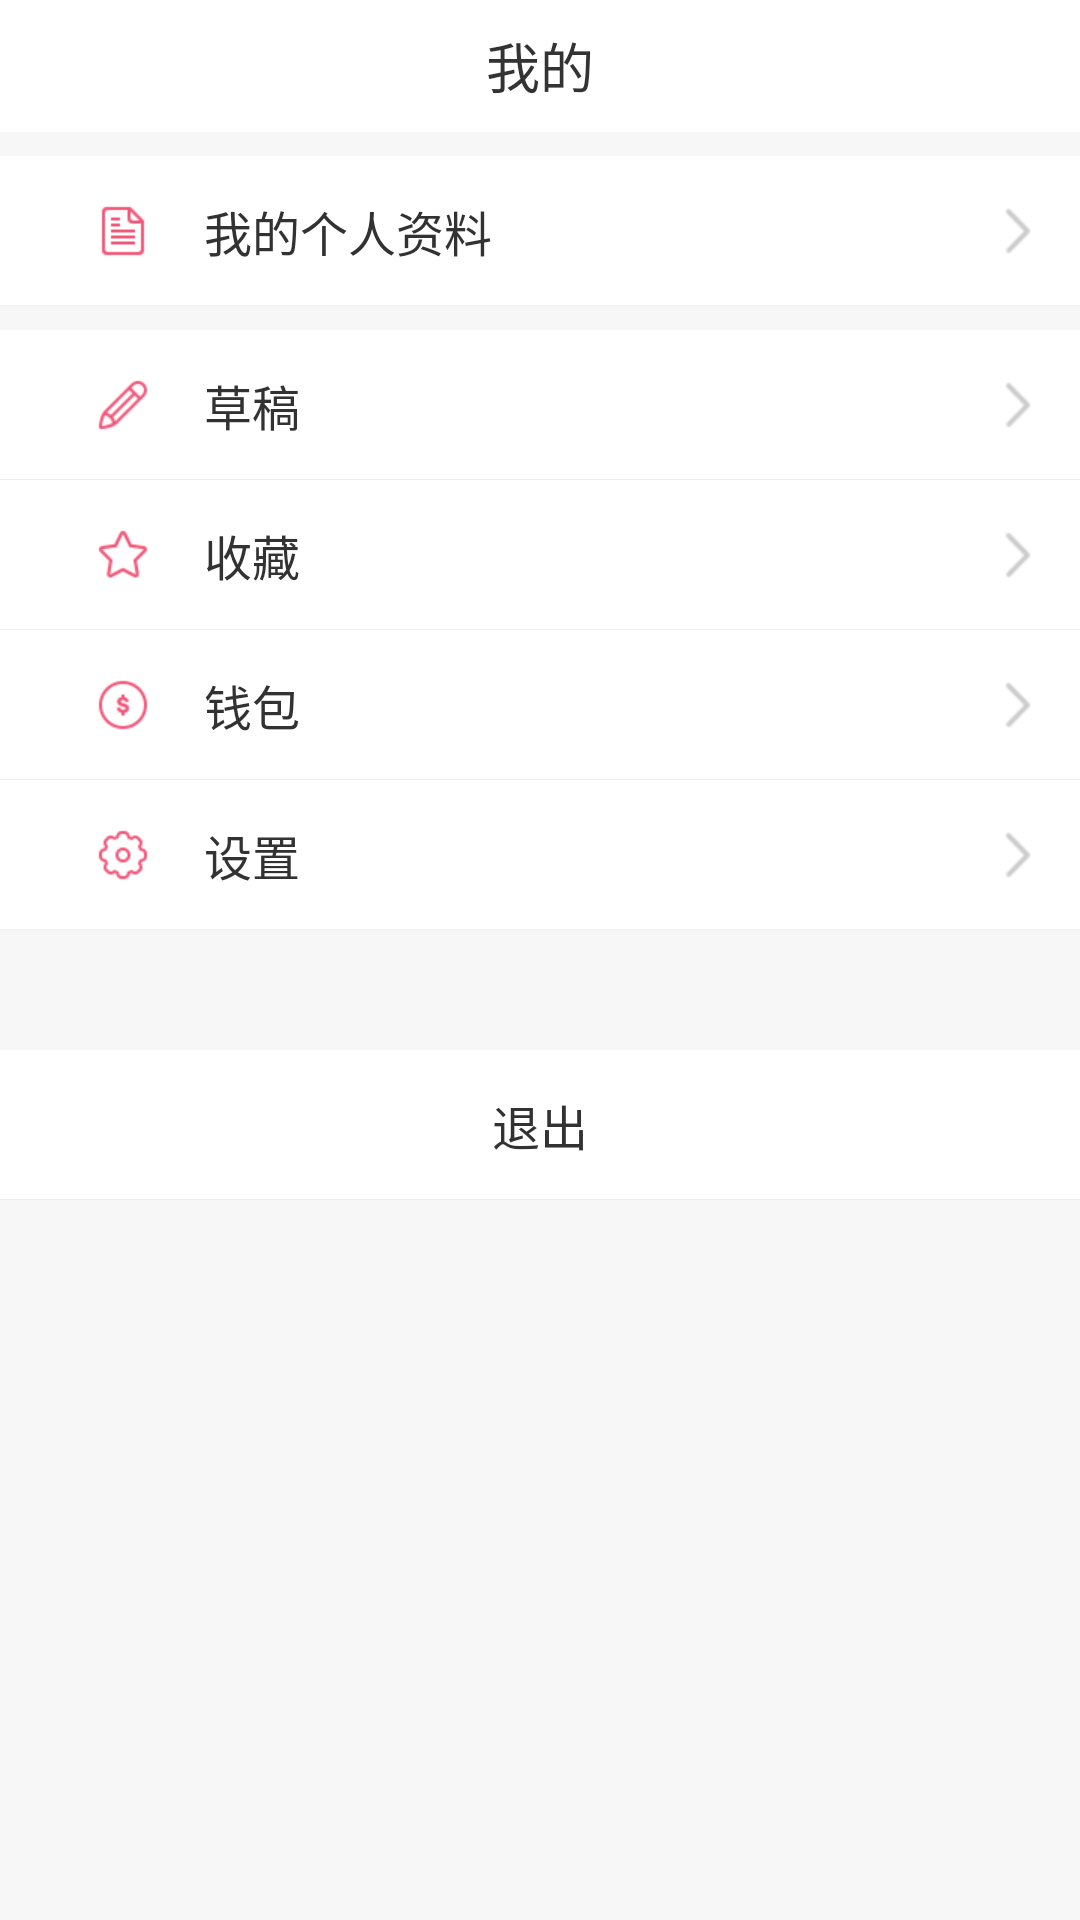

Screen size 1080 x 1920. Icon name, then its box in pixels as [x1, y1, x2, y2]:
arrow right: [1006, 209, 1030, 253], [1006, 383, 1030, 427], [1006, 533, 1030, 577], [1006, 683, 1030, 727], [1006, 833, 1030, 877]
mine collect: [98, 530, 148, 578]
mine draft: [98, 380, 148, 430]
mine moneypack: [98, 680, 148, 730]
mine setting: [98, 830, 148, 880]
